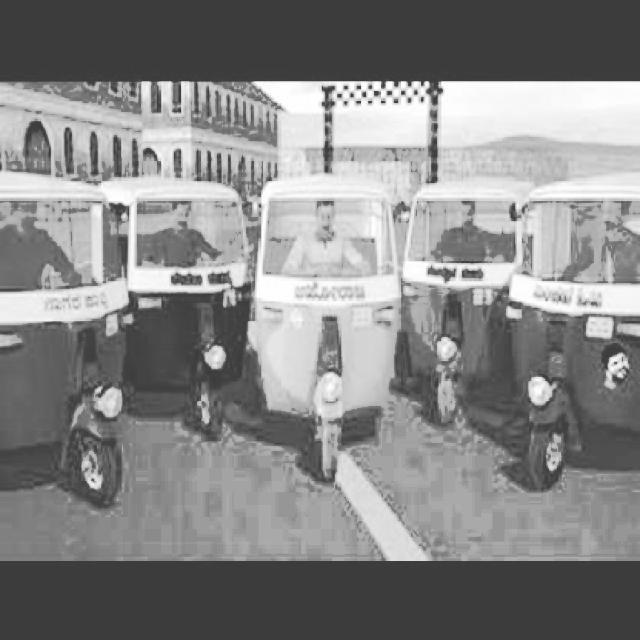Auto-Rickshaw: (249, 177, 397, 486), (96, 174, 244, 441), (520, 190, 638, 482)
